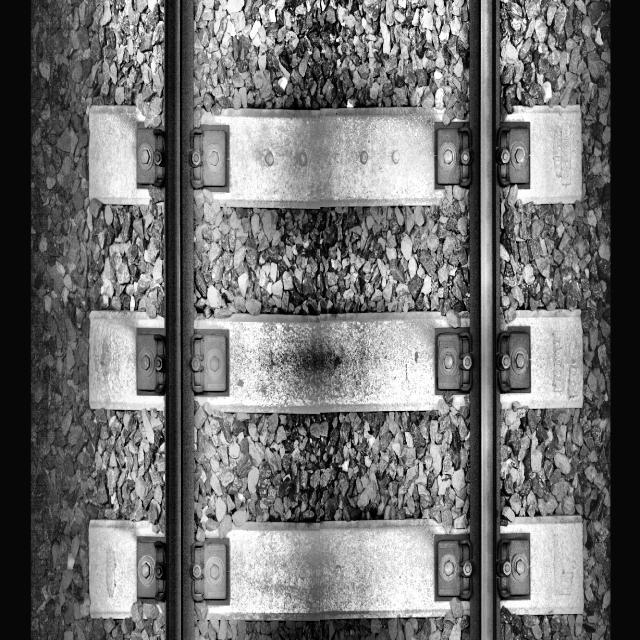Clips: (189, 124, 229, 192), (189, 329, 229, 397), (190, 536, 230, 604), (434, 122, 473, 188), (434, 536, 474, 600), (435, 328, 473, 392), (496, 123, 531, 188), (496, 535, 531, 599), (496, 327, 531, 391), (134, 124, 166, 192), (136, 327, 167, 394), (136, 536, 167, 600)
Sleepers: (90, 103, 583, 206), (89, 518, 584, 618), (87, 309, 584, 406)
